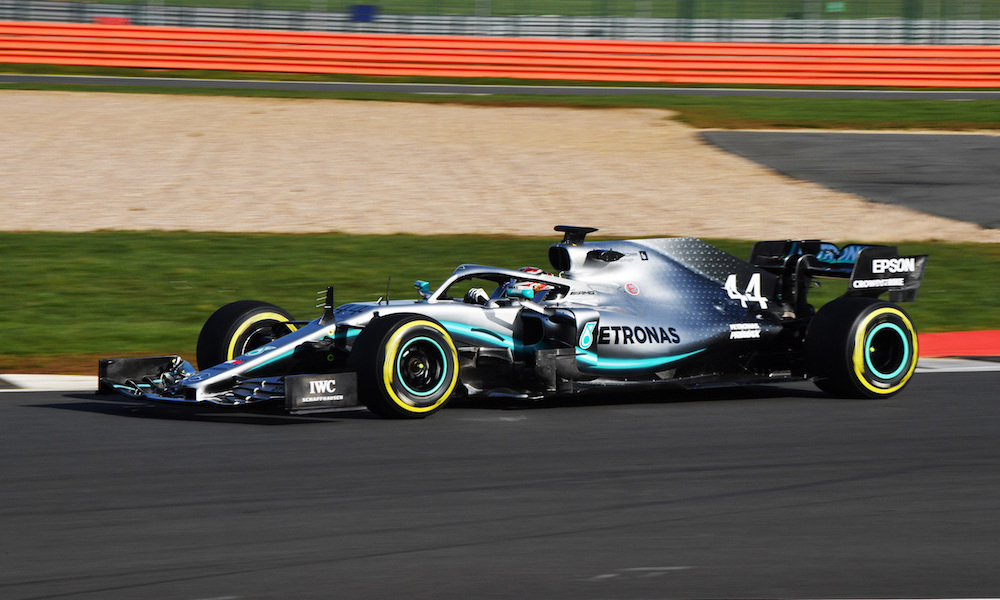F1 Car: (84, 221, 927, 423)
